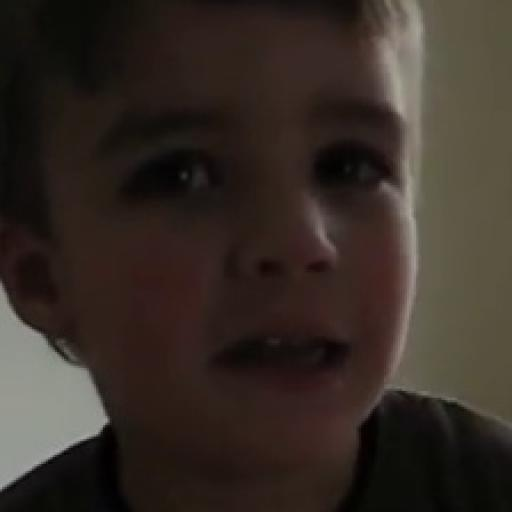Autism: (10, 10, 505, 464)
